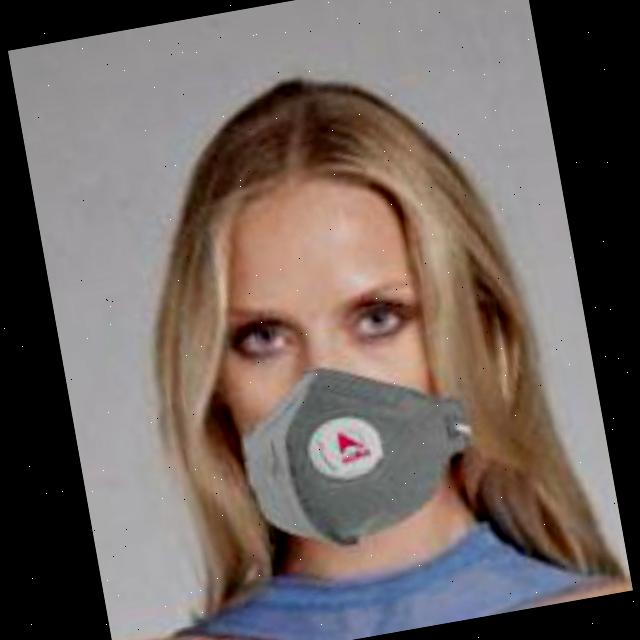suspicion: (158, 70, 495, 552)
